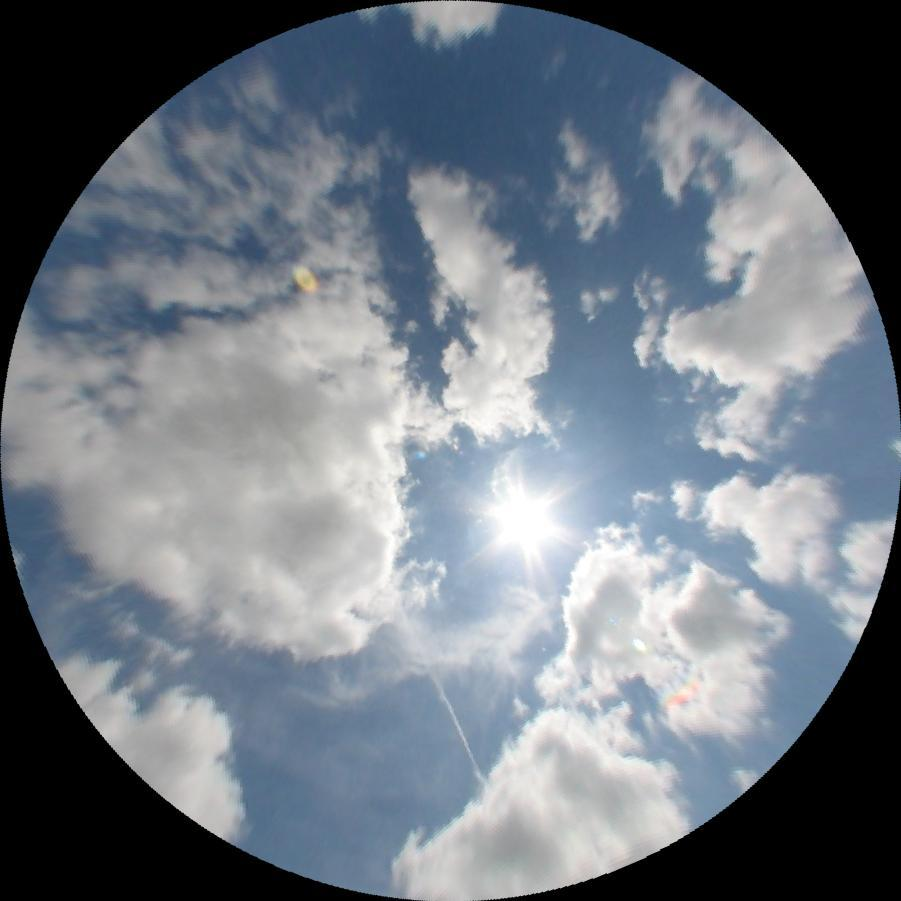contrail old: (403, 616, 488, 784)
sun: (490, 487, 563, 554)
